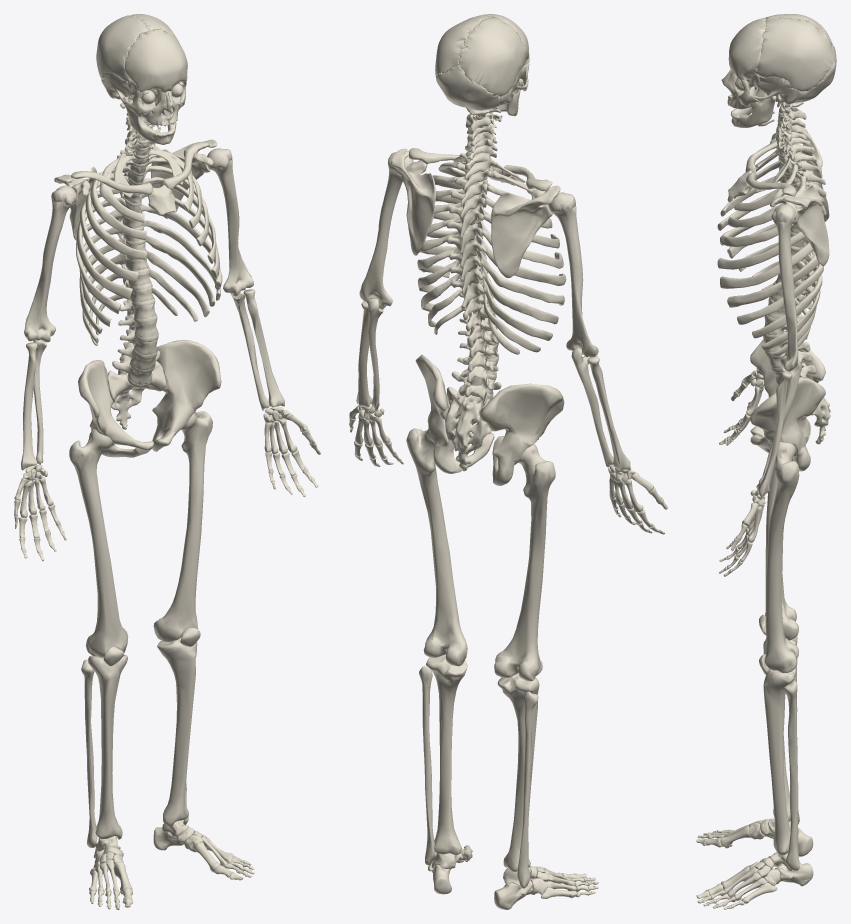
File: skeleton.glb
3 views of the same model, side by side, from view 1: azimuth 30°, elevation 25°; view 2: azimuth 150°, elevation 25°; view 3: azimuth 270°, elevation 25° (orthographic). The views are drawn at different scales.
Parts seen in each view (by area): view 1: right-femur, left-femur, left-hip-bone, left-tibia, frontal-bone, right-tibia, right-hip-bone, right-humerus, left-humerus, right-parietal-bone, sacrum, right-fibula (+19 smaller); view 2: right-femur, left-femur, right-hip-bone, right-parietal-bone, right-scapula, left-tibia, right-tibia, left-hip-bone, right-humerus, left-scapula, sacrum, left-humerus (+14 smaller); view 3: left-femur, left-parietal-bone, left-tibia, left-hip-bone, left-humerus, left-scapula, left-fibula, frontal-bone, right-hip-bone, right-femur, left-radius, left-temporal-bone (+23 smaller).
Part boxes in pixels (x1,y1,x2,y2): right-femur: [69, 429, 128, 657]; left-femur: [153, 411, 212, 641]; left-hip-bone: [152, 340, 221, 451]; left-tibia: [157, 637, 197, 826]; frontal-bone: [125, 28, 187, 93]; right-tibia: [88, 654, 127, 839]; right-hip-bone: [78, 360, 153, 457]; right-humerus: [24, 185, 76, 342]; left-humerus: [207, 148, 253, 296]; right-parietal-bone: [96, 15, 149, 81]; sacrum: [107, 361, 166, 429]; right-fibula: [81, 659, 97, 847]; right-femur: [494, 444, 555, 681]; left-femur: [406, 428, 467, 666]; right-hip-bone: [480, 383, 564, 485]; right-parietal-bone: [458, 16, 526, 96]; right-scapula: [491, 185, 560, 278]; left-tibia: [426, 654, 467, 854]; right-tibia: [497, 673, 539, 871]; left-hip-bone: [415, 354, 494, 473]; right-humerus: [549, 192, 598, 357]; left-scapula: [391, 148, 435, 255]; sacrum: [445, 387, 491, 471]; left-humerus: [359, 152, 413, 309]; left-femur: [764, 442, 799, 672]; left-parietal-bone: [755, 17, 834, 91]; left-tibia: [763, 668, 795, 855]; left-hip-bone: [750, 377, 825, 471]; left-humerus: [771, 204, 798, 371]; left-scapula: [770, 184, 829, 266]; left-fibula: [783, 680, 799, 870]; frontal-bone: [728, 17, 766, 80]; right-hip-bone: [750, 330, 825, 442]; right-femur: [765, 460, 798, 640]; left-radius: [756, 371, 792, 497]; left-temporal-bone: [753, 76, 806, 107].
Bounding box in the file's own units: 2.11 × 5.56 × 0.8274.
